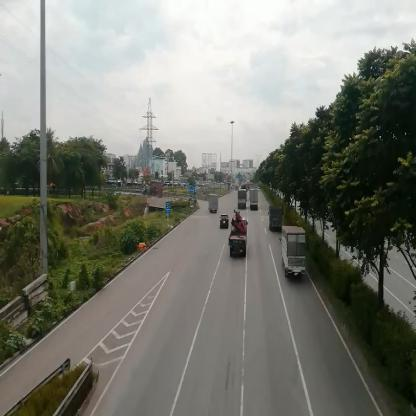car: (222, 216, 230, 228)
container: (142, 181, 165, 200)
truck: (284, 228, 306, 276), (231, 216, 250, 259), (270, 206, 283, 233), (238, 192, 247, 211), (251, 191, 259, 212), (209, 196, 219, 212)
